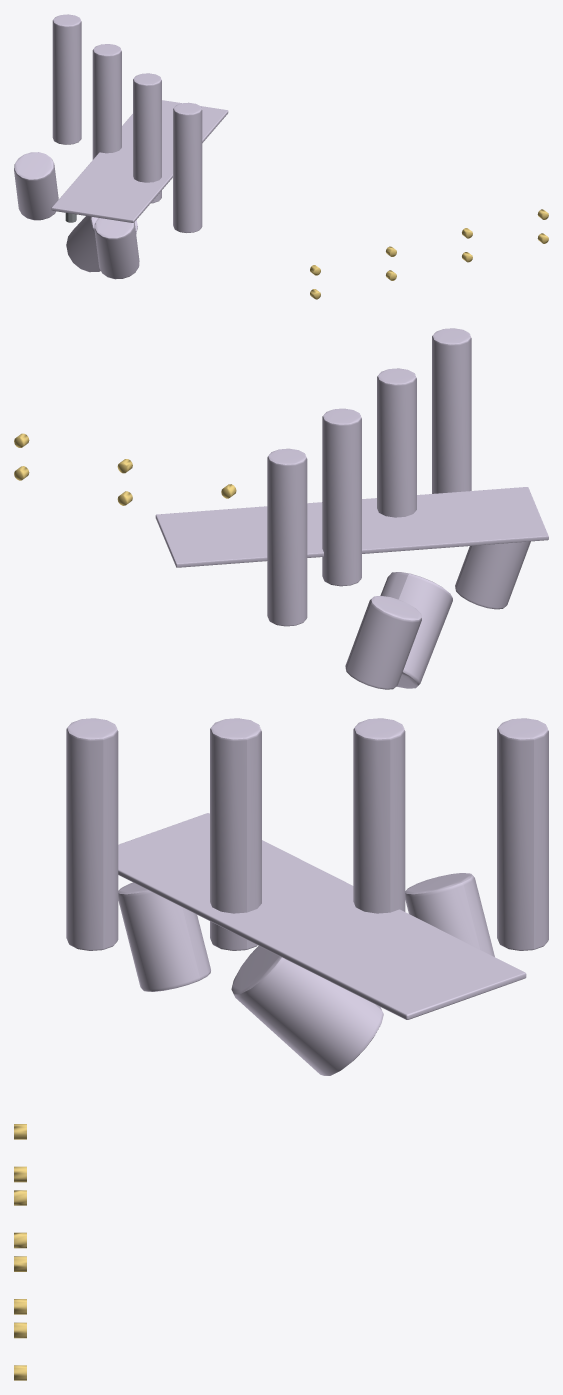
The model's file is engine_v8_exhaustheader_l.glb.
3 views of the same model, one above another, from view 1: azimuth 30°, elevation 25°; view 2: azimuth 150°, elevation 25°; view 3: azimuth 270°, elevation 25° (orthographic). The views are drawn at different scales.
Visible parts, largest first — view 1: Engine_V8_ExhaustHeader_L, GEO_V8Header_CopperNuts; view 2: Engine_V8_ExhaustHeader_L, GEO_V8Header_CopperNuts; view 3: Engine_V8_ExhaustHeader_L, GEO_V8Header_CopperNuts.
Boxes of the visible parts, x1,y1,x2,y2 form: Engine_V8_ExhaustHeader_L: (14, 14, 228, 279); GEO_V8Header_CopperNuts: (310, 209, 548, 299); Engine_V8_ExhaustHeader_L: (155, 328, 548, 689); GEO_V8Header_CopperNuts: (14, 433, 236, 505); Engine_V8_ExhaustHeader_L: (66, 718, 548, 1075); GEO_V8Header_CopperNuts: (14, 1124, 26, 1380).
Size of the model in its own units: 0.6996 by 0.3084 by 0.4099.
